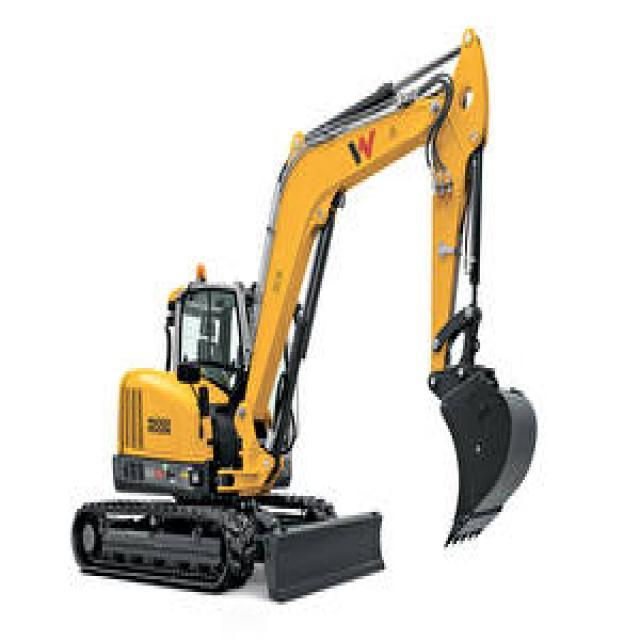C_E: (70, 26, 540, 602)
